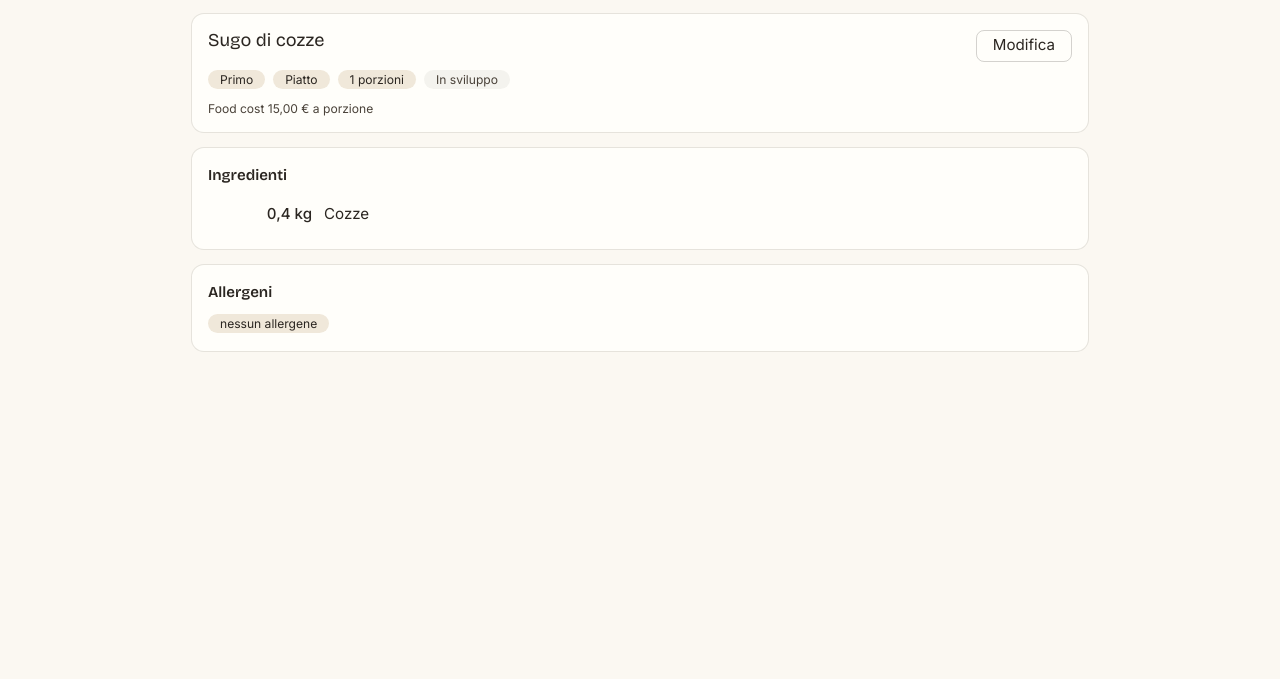
🔴 nell'elenco si legge la resa, non la percentuale di scarto › «1.5 kg → 0.4 kg netti (26.7%)» al posto di «275%»
Click the button "Modifica".
click(1024, 46)  # box [976,30,1072,62]
(page scrolled)
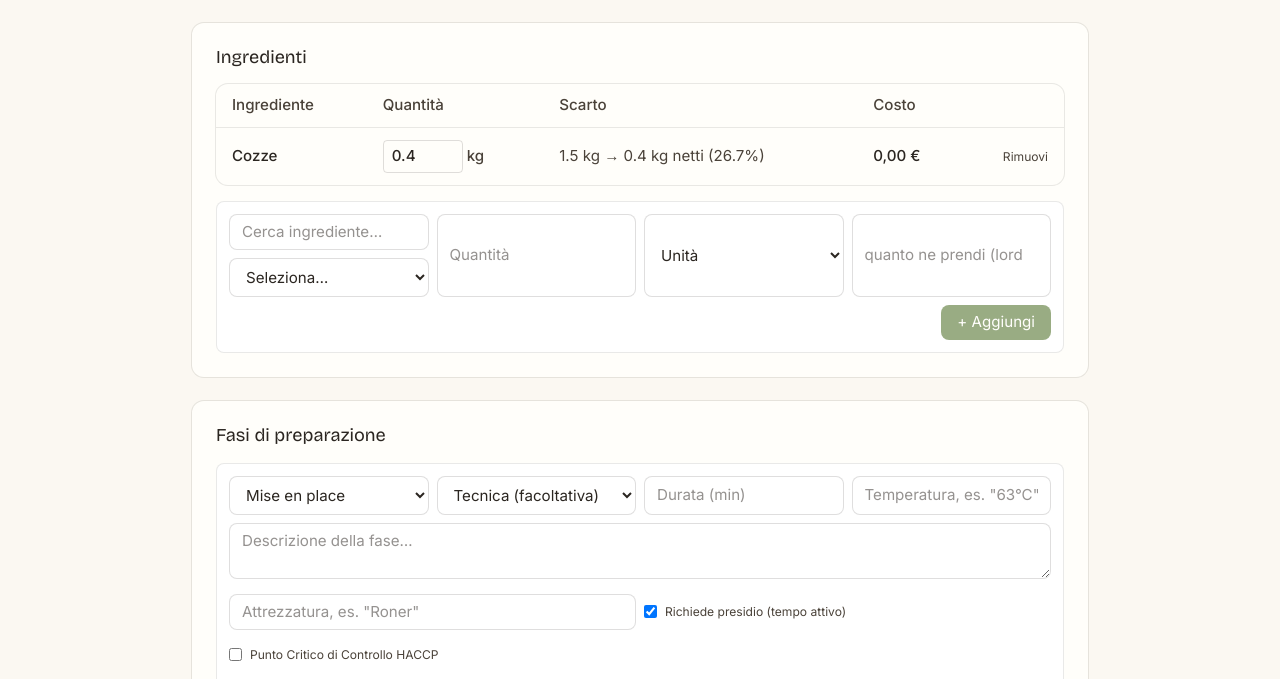
Expected: the button "+ Aggiungi" is shown, [941,305,1051,340]
Expected: the text "1.5 kg → 0.4 kg netti" is shown, [559,146,765,165]
Expected: the text "26.7%" is shown, [559,146,765,165]
